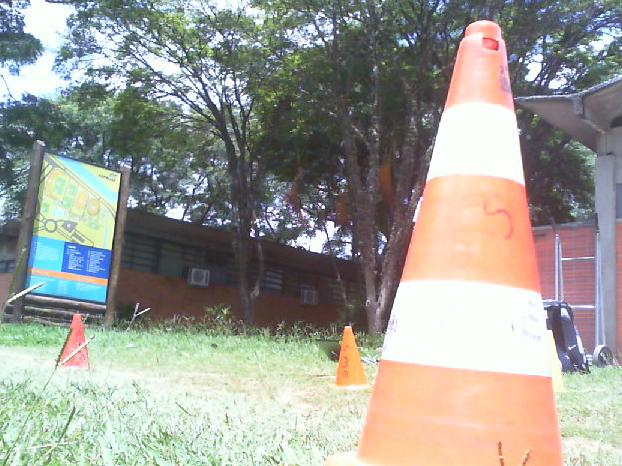0 cone: (322, 19, 571, 466), (334, 325, 371, 390), (56, 312, 91, 369)
